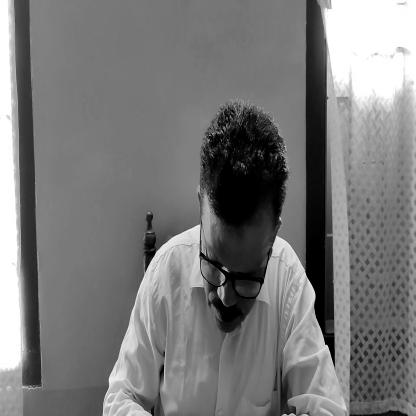Normal: (201, 128, 273, 330)
